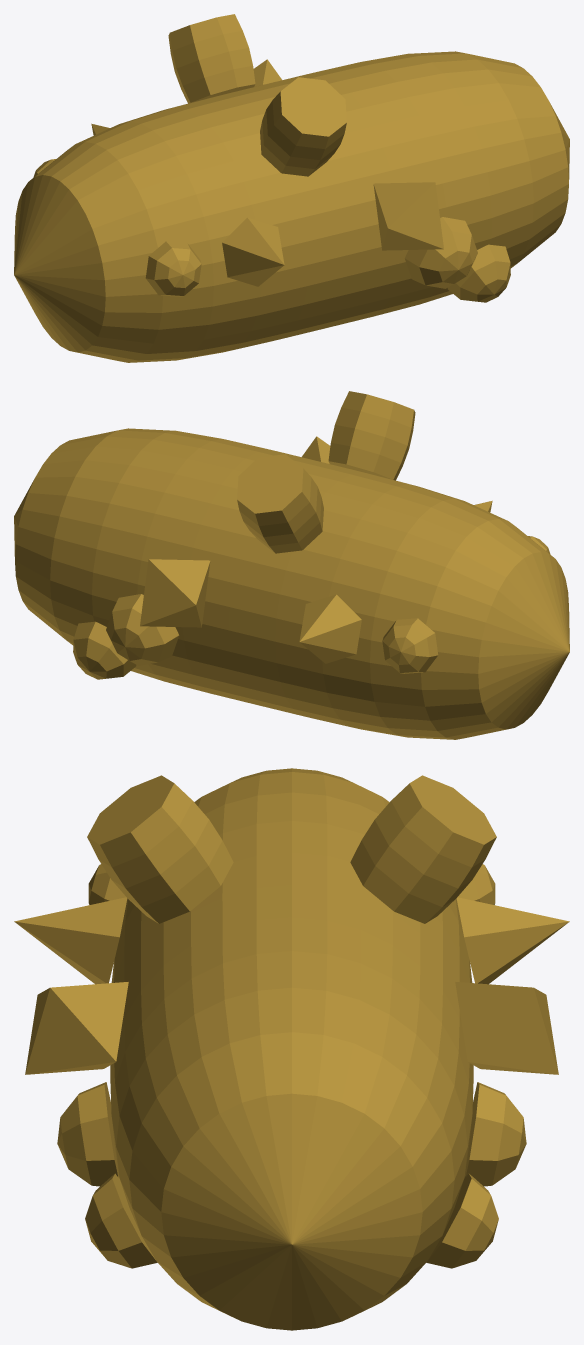
The model's file is exp1_barrel_sym_01.glb.
The picture shows the model from 3 angles, top to bottom: view 1: azimuth 30°, elevation 25°; view 2: azimuth 150°, elevation 25°; view 3: azimuth 270°, elevation 25°; orthographic projection. The views are drawn at different scales.
Parts seen in each view (by area): view 1: exp1_barrel_sym_01; view 2: exp1_barrel_sym_01; view 3: exp1_barrel_sym_01.
Boxes of the visible parts, <box> form: exp1_barrel_sym_01: <box>14,14,569,362</box>; exp1_barrel_sym_01: <box>14,391,569,739</box>; exp1_barrel_sym_01: <box>14,768,569,1330</box>.
Bounding box in the file's own units: 3.31 × 1.61 × 1.99.
